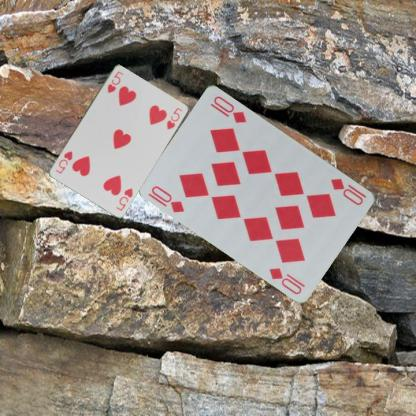10d: (328, 176, 369, 206), (149, 183, 186, 215)
5h: (104, 68, 125, 94), (114, 185, 134, 211)
